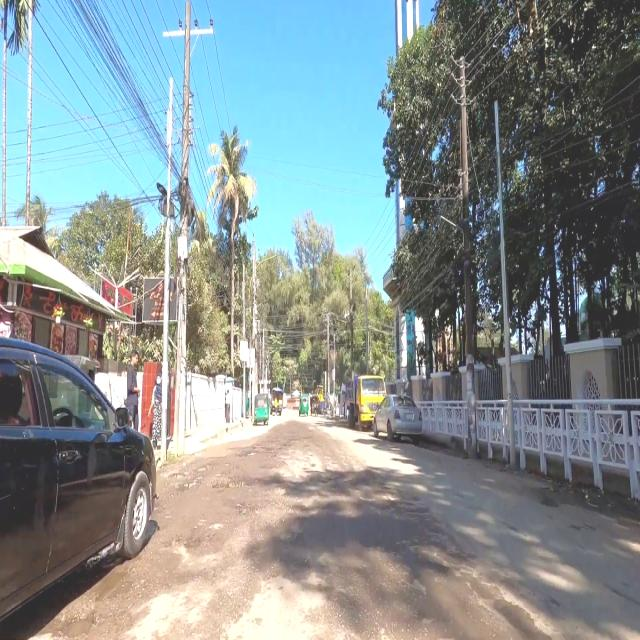black: (0, 328, 158, 605)
silver: (374, 398, 424, 446)
